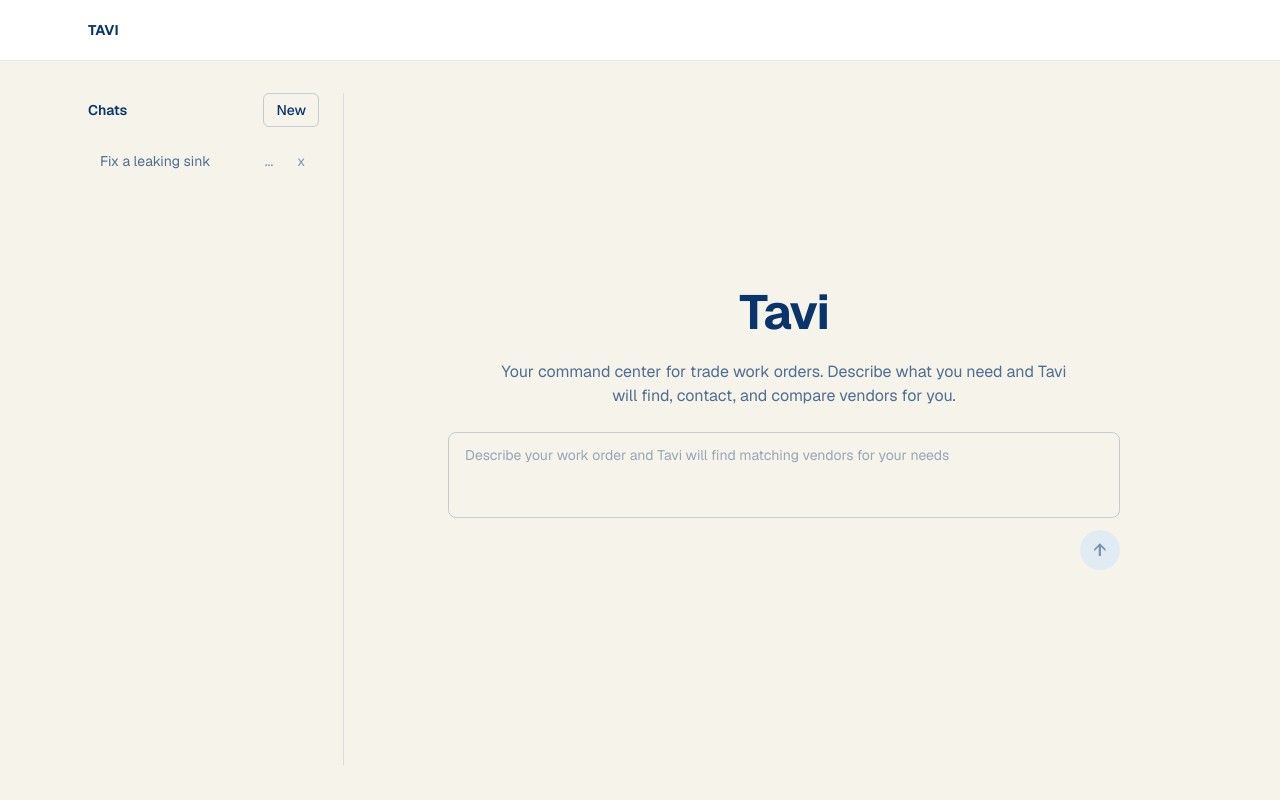
Test: TaviPage › deletes a previous chat from the sidebar
Expected: the button "Fix a leaking sink" is shown, [88, 143, 251, 179]
Click the button named "Delete Fix a leaking sink" at (301, 161), box [287, 147, 315, 175]
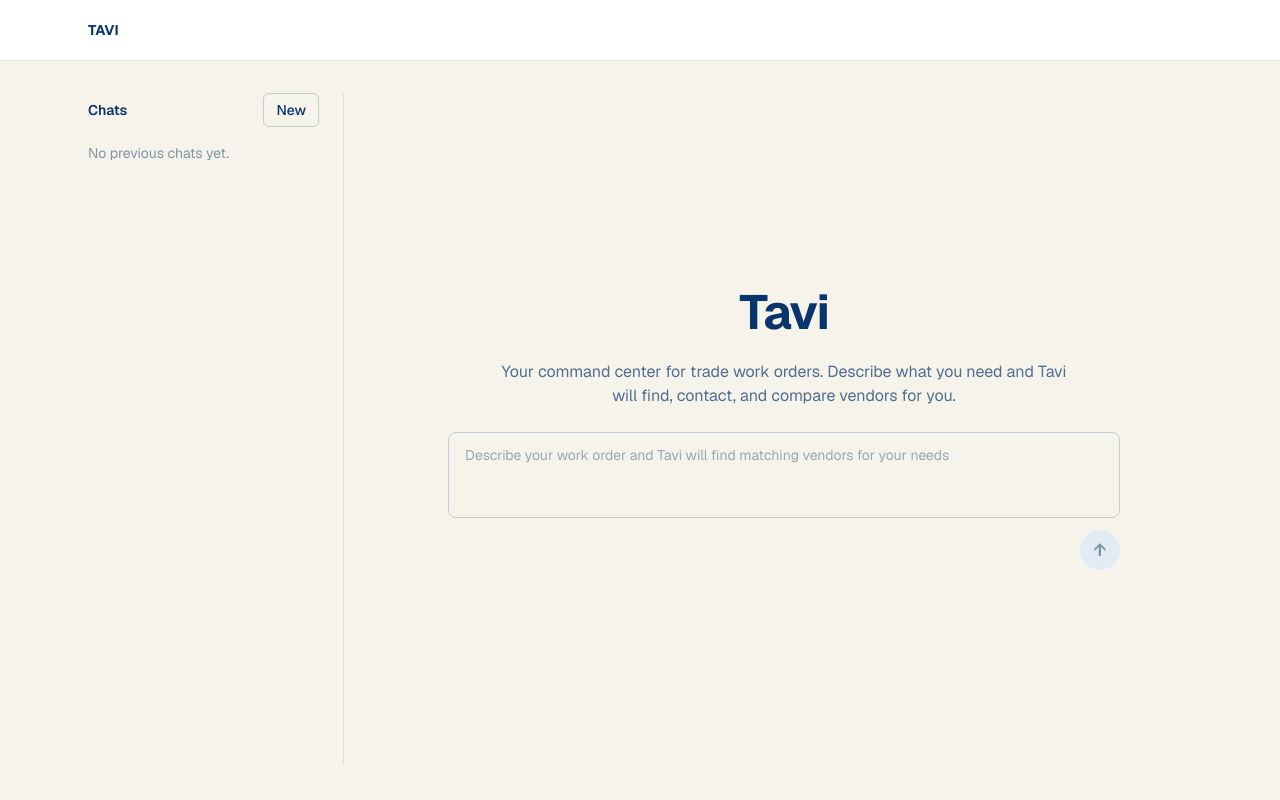
Now the button "Fix a leaking sink" is gone
